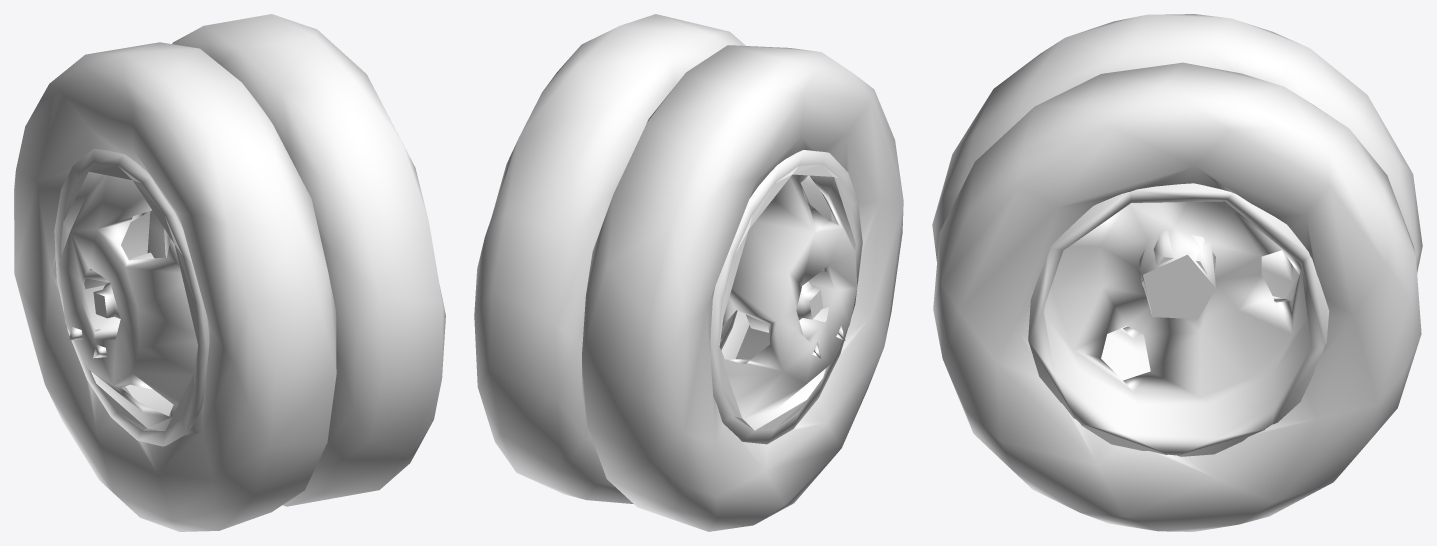
3 renders of one model, left to right at view 1: azimuth 30°, elevation 25°; view 2: azimuth 150°, elevation 25°; view 3: azimuth 270°, elevation 25°, orthographic.
Bounding box in the file's own units: 0.6248 × 1.06 × 1.06.
1 material, 1 textured.
